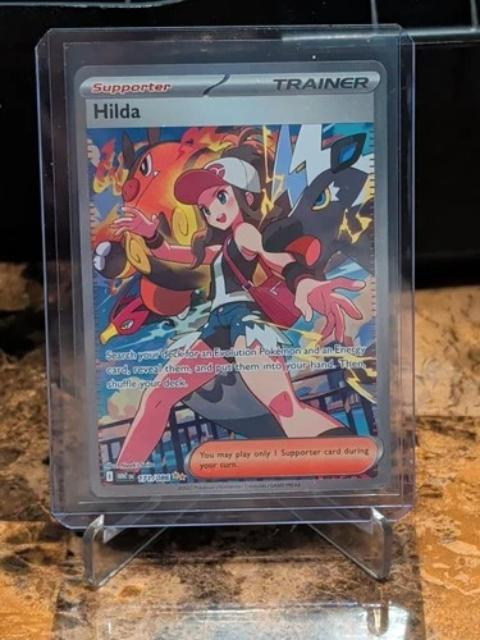Card: (65, 59, 388, 501)
Name: (86, 97, 143, 124)
